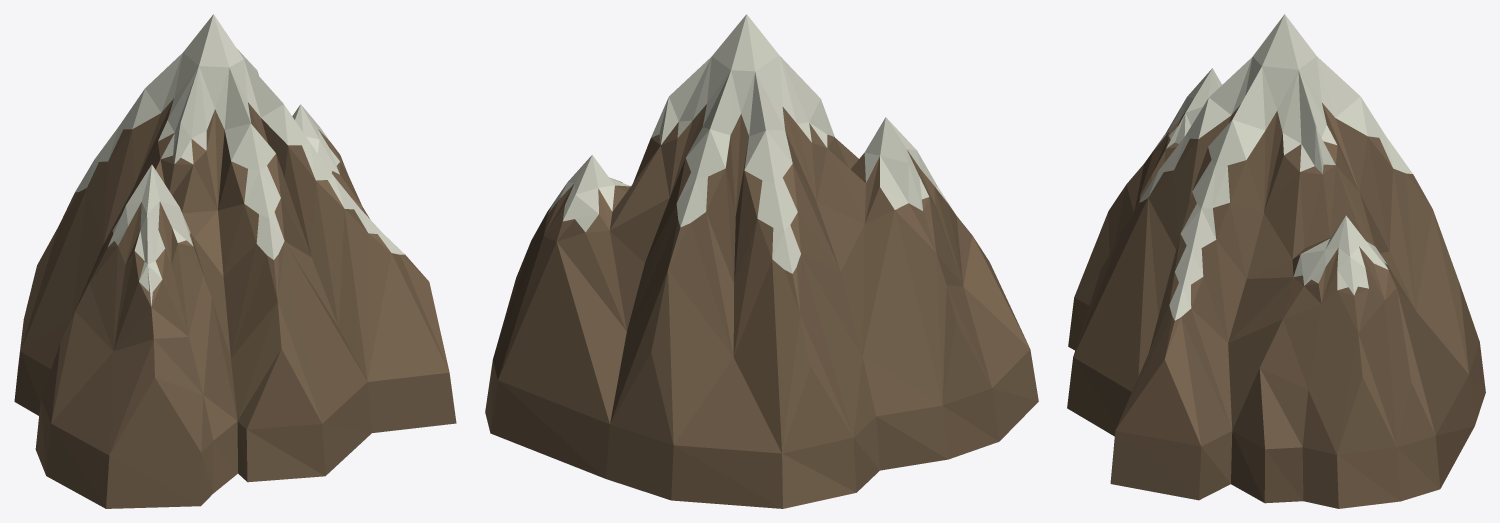
File: alpine_single.glb
3 views of the same model, side by side, from view 1: azimuth 30°, elevation 25°; view 2: azimuth 150°, elevation 25°; view 3: azimuth 270°, elevation 25° (orthographic). The views are drawn at different scales.
Parts seen in each view (by area): view 1: alpine_single; view 2: alpine_single; view 3: alpine_single.
Part boxes in pixels (x1=…): alpine_single: x1=14, y1=14, x2=456, y2=508; alpine_single: x1=485, y1=14, x2=1038, y2=508; alpine_single: x1=1067, y1=14, x2=1485, y2=508.
Bounding box in the file's own units: 1.29 × 1.15 × 1.11.
